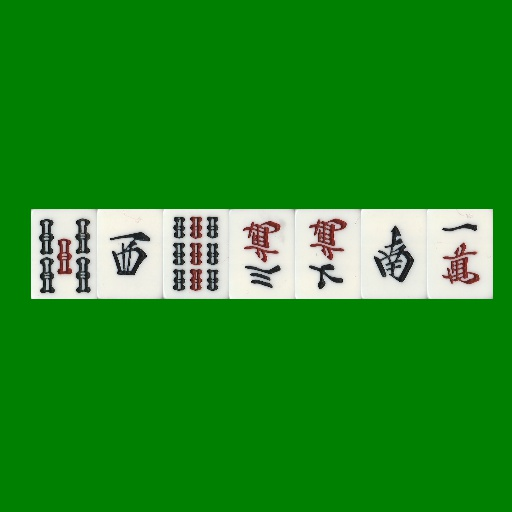1m: (427, 209, 493, 299)
3m: (229, 209, 295, 299)
5s: (31, 209, 97, 299)
7m: (295, 209, 361, 299)
9s: (163, 209, 229, 299)
south: (361, 209, 427, 299)
west: (97, 209, 163, 299)
